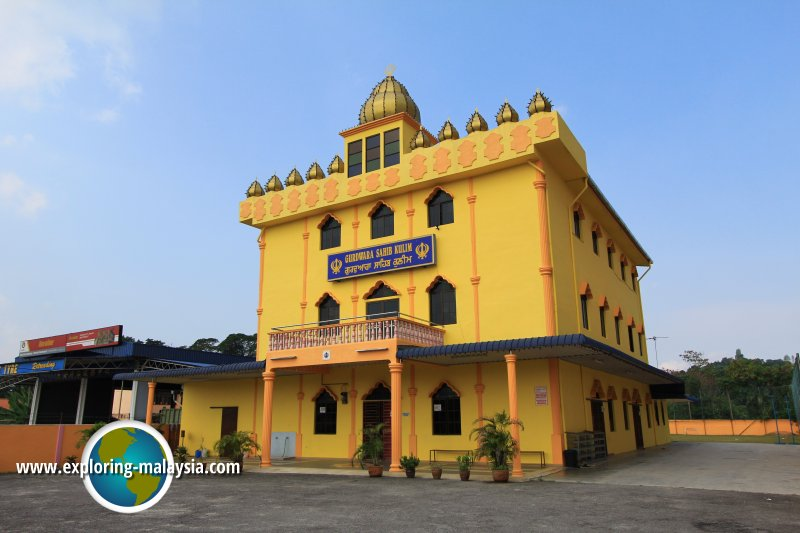Gurdwara: (243, 68, 623, 430)
